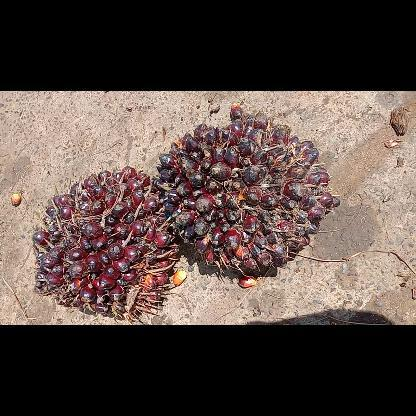Kurang masak: (148, 101, 342, 275), (30, 164, 178, 320)
